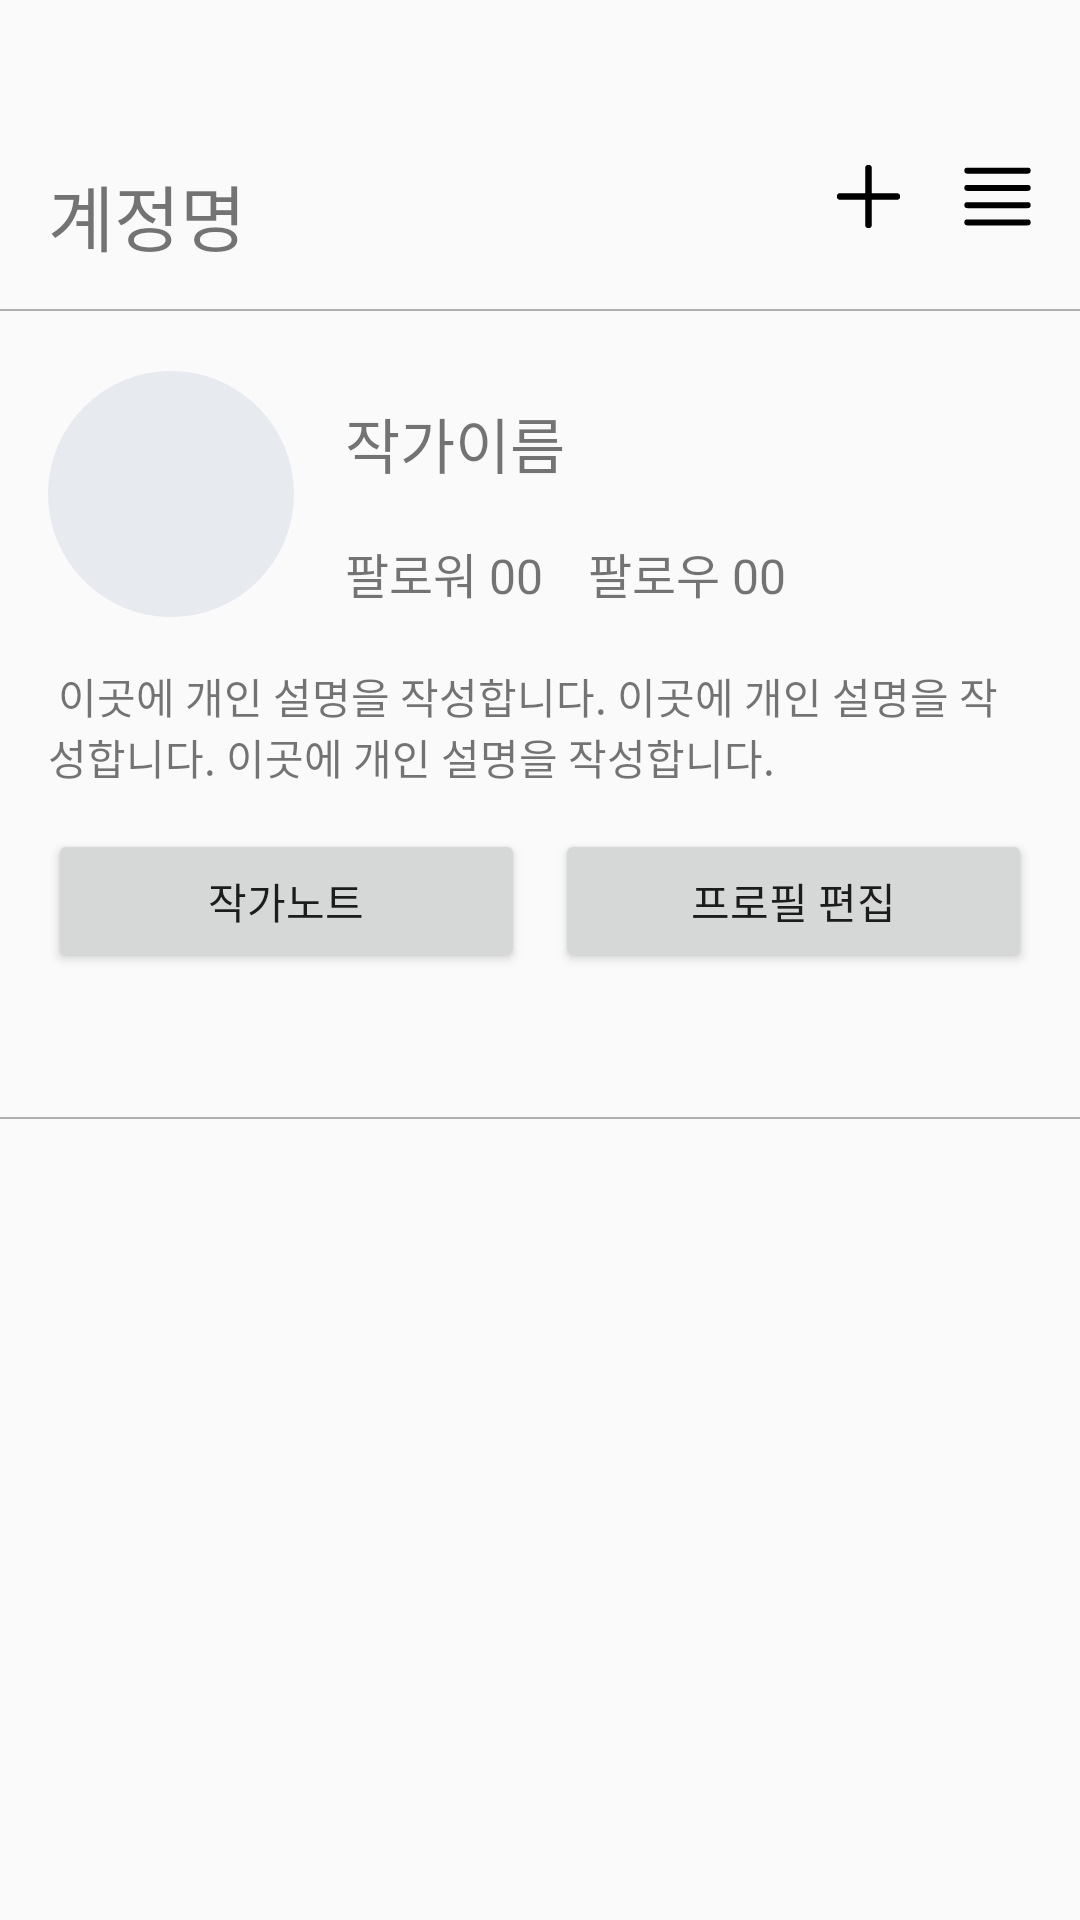

Named icons in this screenshot (1080w x 1920h) and their bounding boxes, bbox(x1, y1, x2, y2):
mypage add: bbox(837, 165, 900, 228)
mypage menu: bbox(964, 167, 1031, 226)
